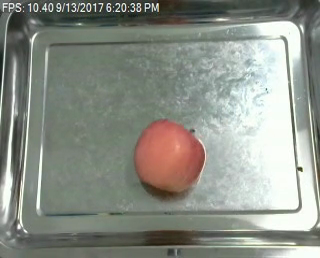Apple: (131, 117, 206, 195)
